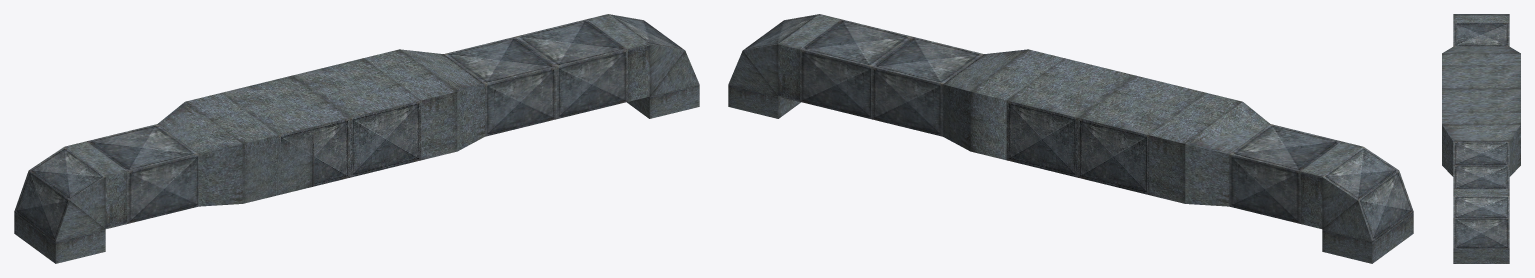
Rendered from airduct01.fbx.
3 renders of one model, left to right at view 1: azimuth 30°, elevation 25°; view 2: azimuth 150°, elevation 25°; view 3: azimuth 270°, elevation 25°, orthographic. The views are drawn at different scales.
Parts seen in each view (by area): view 1: mesh_0; view 2: mesh_0; view 3: mesh_0.
Boxes of the visible parts, box(x1,y1,x2,y2) form: mesh_0: box(14, 14, 699, 263); mesh_0: box(728, 14, 1413, 263); mesh_0: box(1442, 14, 1520, 263).
Bounding box in the file's own units: 900 × 110 × 140.
1 material, 1 textured.
